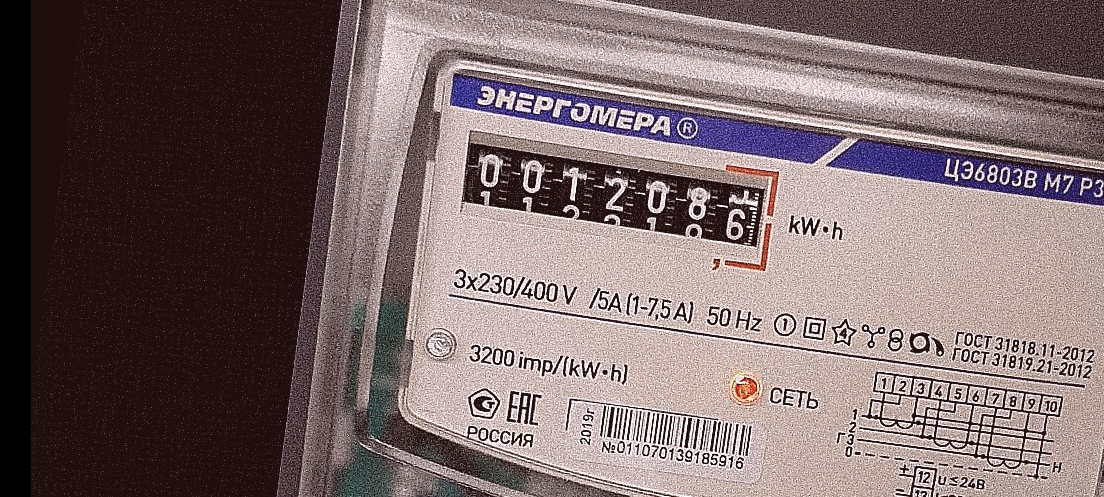0: (475, 148, 506, 190), (642, 176, 671, 215), (519, 156, 547, 195)
1: (560, 162, 586, 204)
2: (601, 173, 632, 214)
6: (721, 204, 749, 242)
8: (683, 182, 712, 222)
screen: (449, 121, 790, 278)
